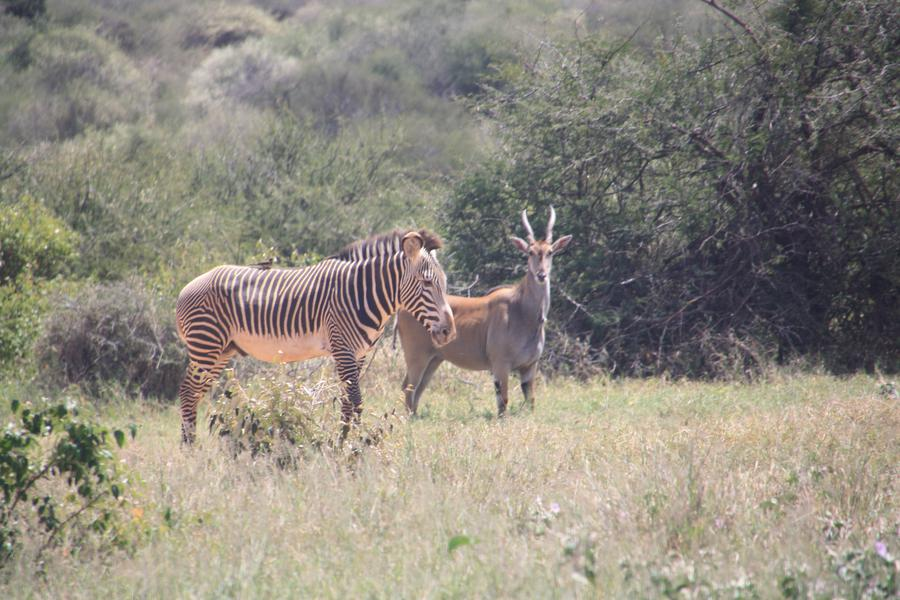zebra_grevys: (168, 243, 365, 360)
